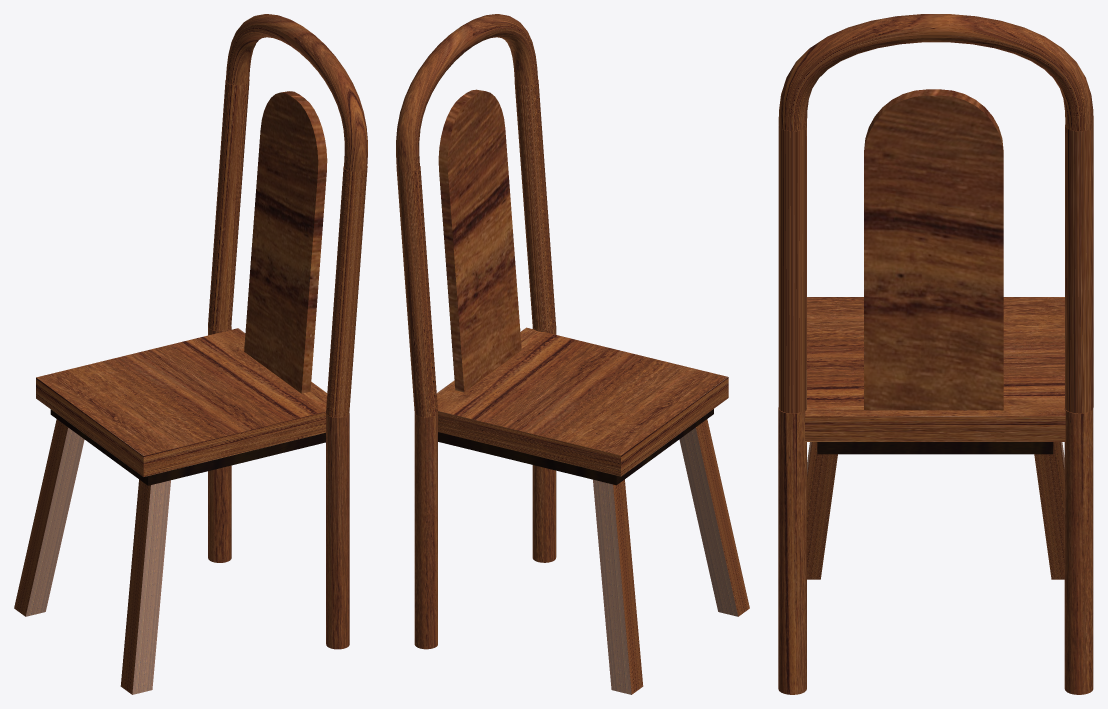
Rendered from Silla.obj.
The picture shows the model from 3 angles, left to right: view 1: azimuth 30°, elevation 25°; view 2: azimuth 150°, elevation 25°; view 3: azimuth 270°, elevation 25°; orthographic projection. The views are drawn at different scales.
Parts seen in each view (by area): view 1: pCube3; view 2: pCube3; view 3: pCube3.
Part boxes in pixels (bbox=[...]): pCube3: bbox=[14, 14, 367, 694]; pCube3: bbox=[396, 14, 749, 694]; pCube3: bbox=[778, 14, 1093, 694].
Bounding box in the file's own units: 2.4 × 5.44 × 2.26.
2 materials, 2 textured.
